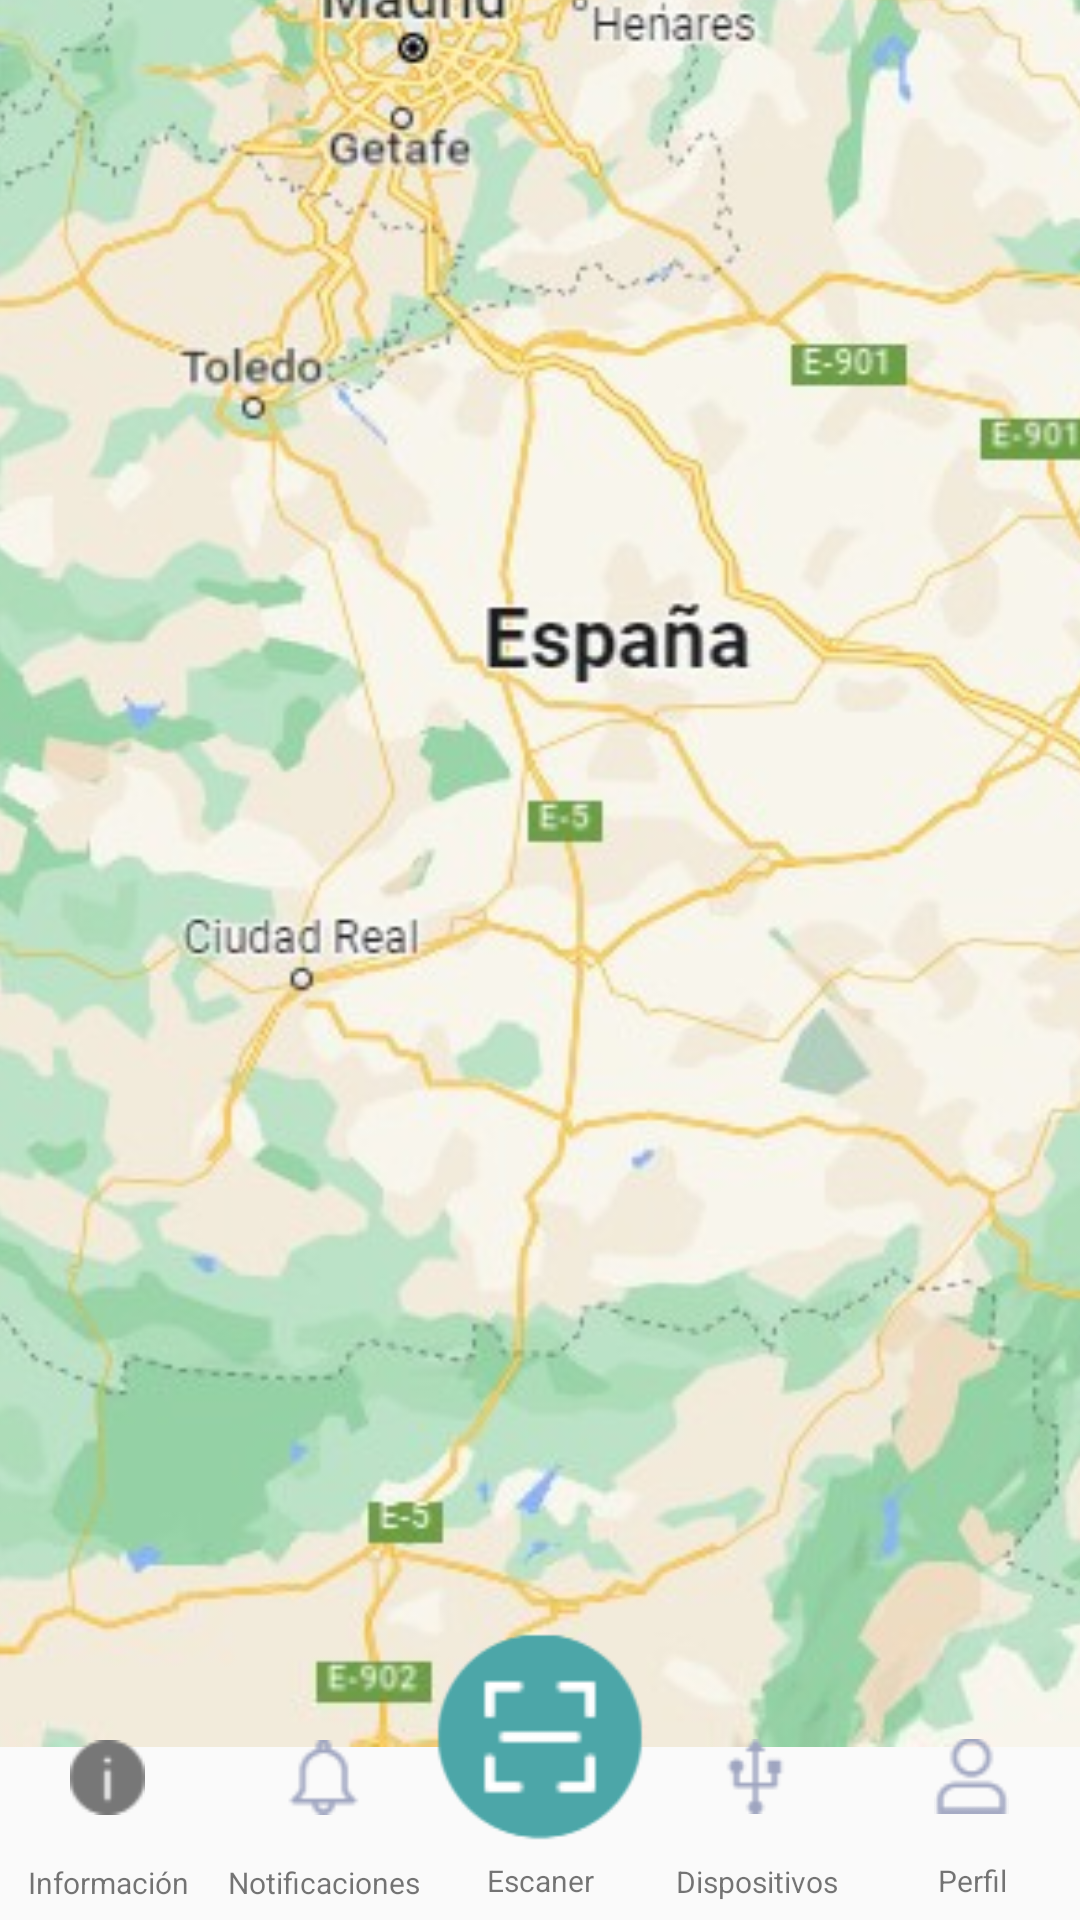

Screen size 1080 × 1920. Icon name, then its center in pixels as (x=x, y=y):
notification: (x=323, y=1762)
profile: (x=971, y=1776)
usb: (x=755, y=1762)
